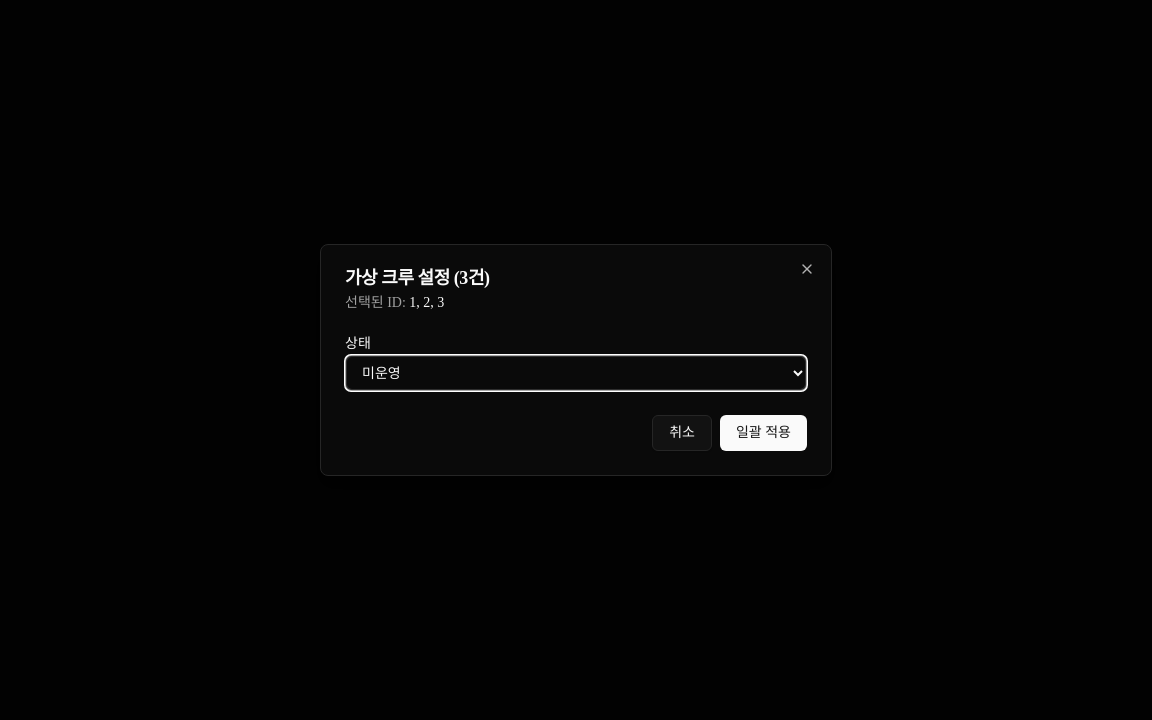
Test case: VirtualCrewBulkDialog › MANAGED + 송팩 선택 → 경고 사라짐
This screenshot has width=1152, height=720.
Select "운영중" in the dropdown named "가상 DJ 상태": (576, 373) [345,355,807,391]
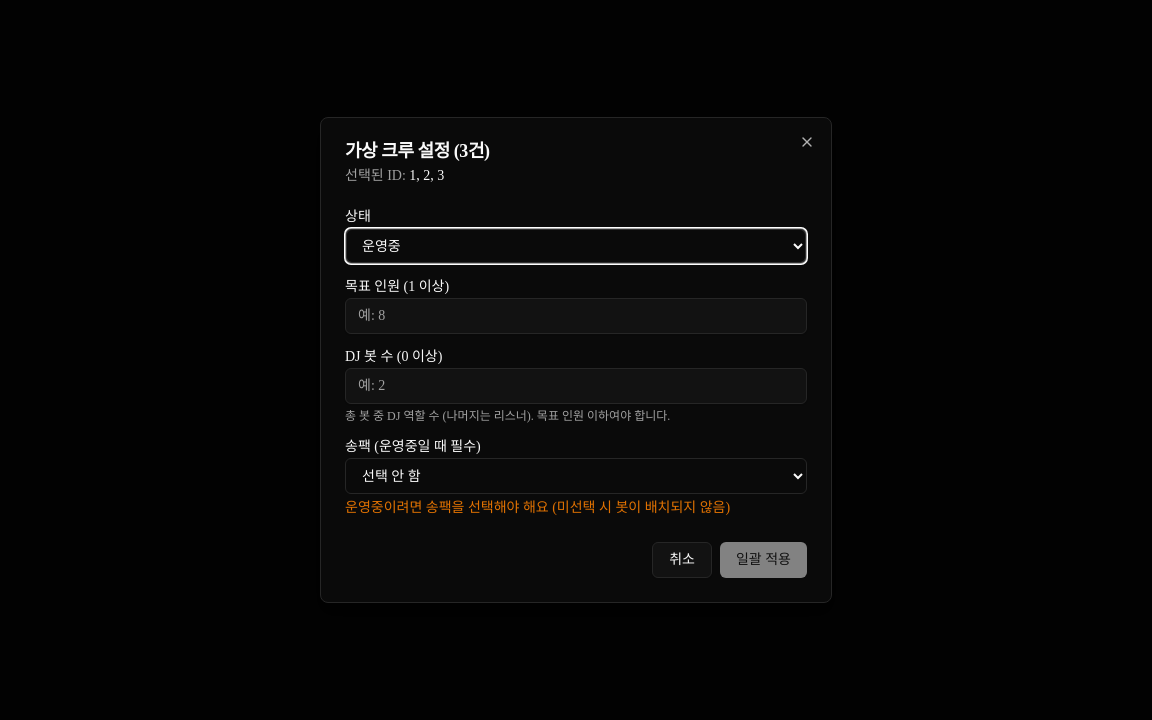
Select "여름 (12곡)" in the dropdown named "송팩 선택": (576, 476) [345,458,807,494]
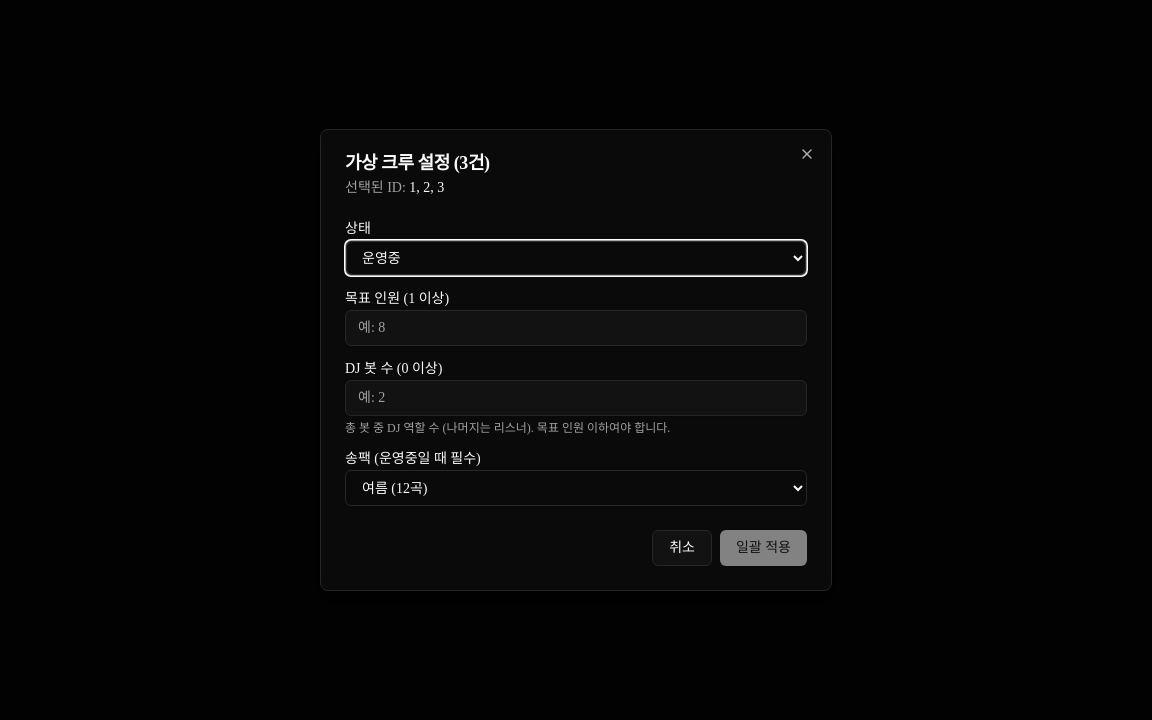
Check: the text "송팩을 선택해야" is gone
